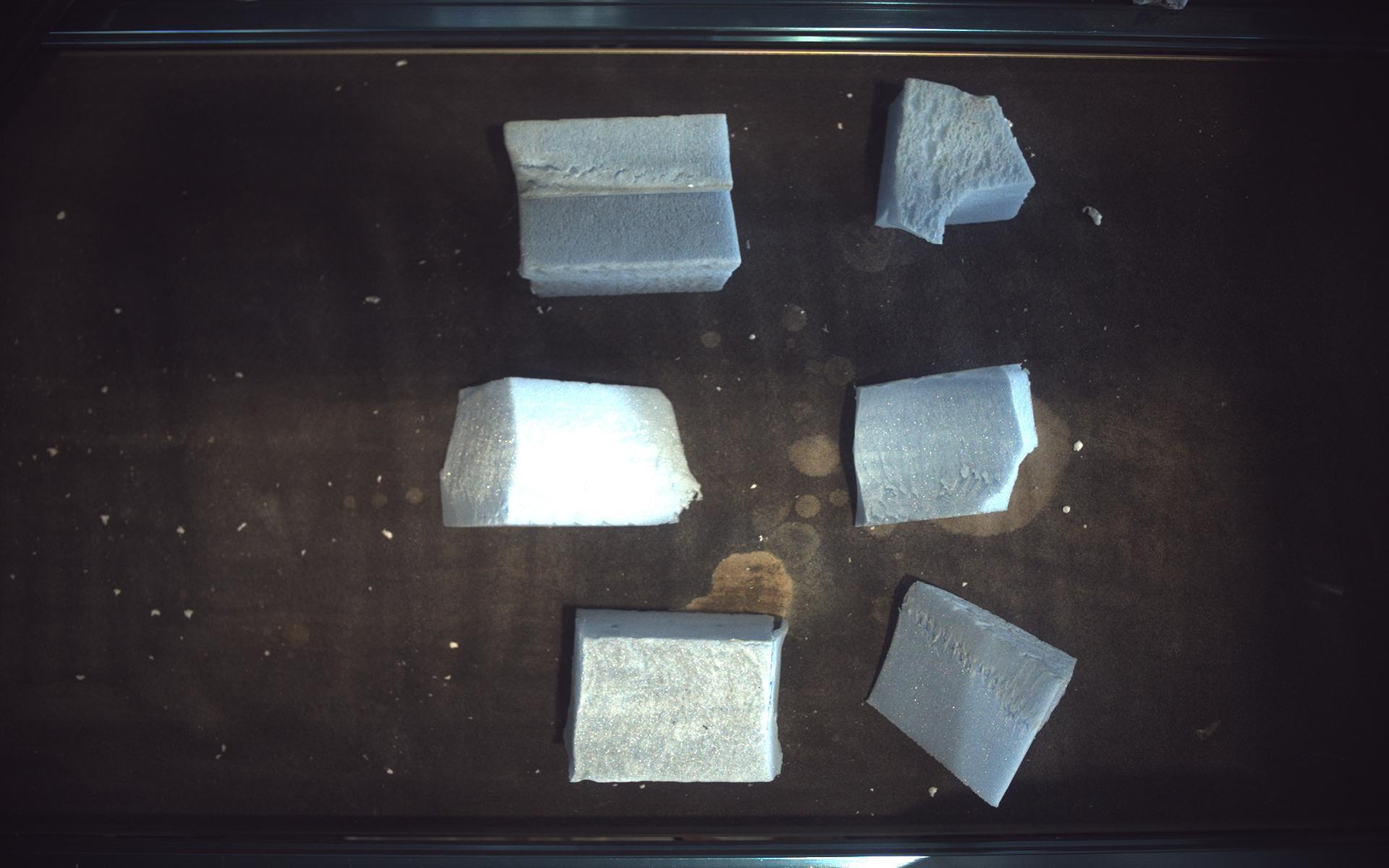foam: (869, 582, 1079, 808), (505, 114, 742, 297), (565, 610, 789, 784), (441, 378, 702, 527), (855, 364, 1040, 527), (878, 77, 1037, 243)
